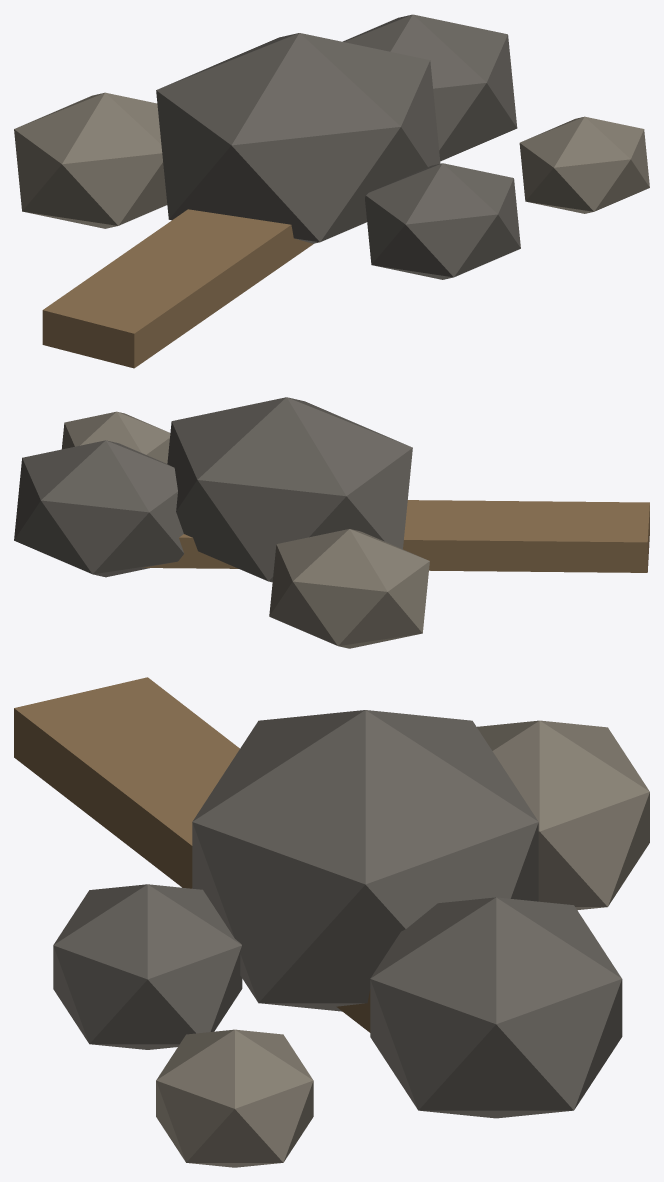
The model's file is rubble.glb.
The picture shows the model from 3 angles, top to bottom: view 1: azimuth 30°, elevation 25°; view 2: azimuth 150°, elevation 25°; view 3: azimuth 270°, elevation 25°; orthographic projection. The views are drawn at different scales.
Parts seen in each view (by area): view 1: broken masonry, fallen plank, broken masonry.002, broken masonry.003, broken masonry.001, broken masonry.004; view 2: broken masonry, broken masonry.001, fallen plank, broken masonry.002, broken masonry.004; view 3: broken masonry, broken masonry.001, fallen plank, broken masonry.003, broken masonry.002, broken masonry.004.
Part boxes in pixels (bbox=[...]): broken masonry: bbox=[156, 33, 440, 243]; fallen plank: bbox=[42, 209, 313, 368]; broken masonry.002: bbox=[14, 92, 167, 228]; broken masonry.003: bbox=[365, 163, 520, 279]; broken masonry.001: bbox=[343, 14, 517, 161]; broken masonry.004: bbox=[519, 116, 649, 213]; broken masonry: bbox=[167, 397, 412, 582]; broken masonry.001: bbox=[14, 440, 184, 577]; fallen plank: bbox=[142, 500, 649, 572]; broken masonry.002: bbox=[269, 529, 429, 648]; broken masonry.004: bbox=[61, 411, 170, 463]; broken masonry: bbox=[192, 710, 538, 1011]; broken masonry.001: bbox=[370, 897, 622, 1118]; fallen plank: bbox=[14, 677, 370, 1032]; broken masonry.003: bbox=[53, 884, 242, 1049]; broken masonry.002: bbox=[477, 720, 649, 910]; broken masonry.004: bbox=[156, 1029, 313, 1167].
Size of the model in its own units: 0.4758 by 0.154 by 0.292.
